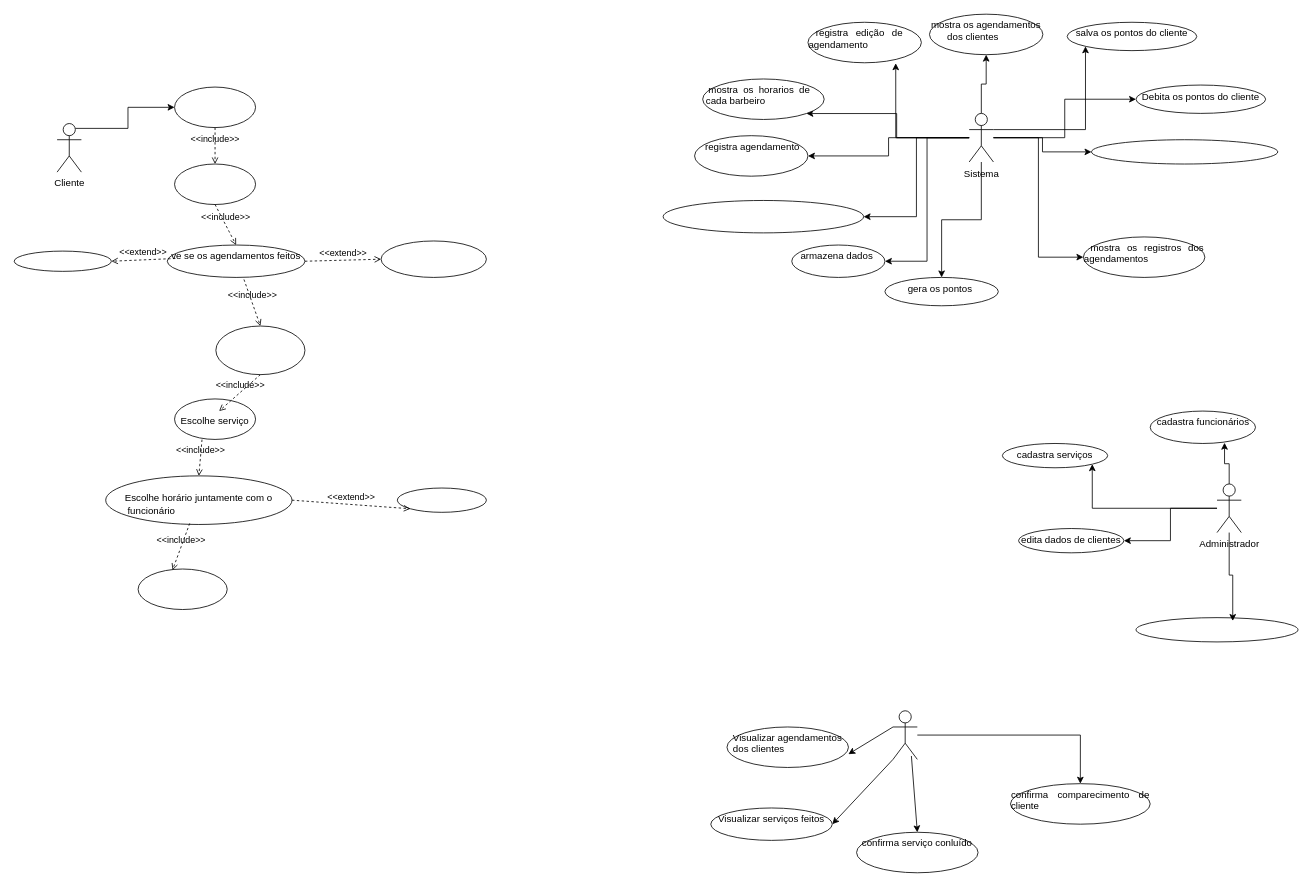
Some shapes in this 1312 by 887 pixel diagram are drawn without their labels. The centre of each missing label's shape, as x and y in pixels:
Barbeiro: point (904, 734)
cadastra-se: point (215, 107)
cancela agendamento: point (433, 258)
conta os serviços feitos por cada barbeiro: point (1184, 151)
edita agendamento: point (62, 260)
edita dados de funcionários: point (1216, 629)
Efetua login: point (215, 184)
finaliza agendamento: point (182, 589)
inicia novo agendamento: point (260, 350)
paga com pontos: point (441, 499)
registra cancelamento de agendamento: point (763, 216)
